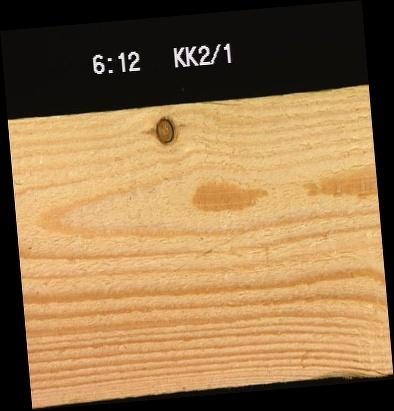dry_knot: (153, 115, 174, 143)
split: (202, 97, 246, 106)
wave: (305, 370, 393, 380)
